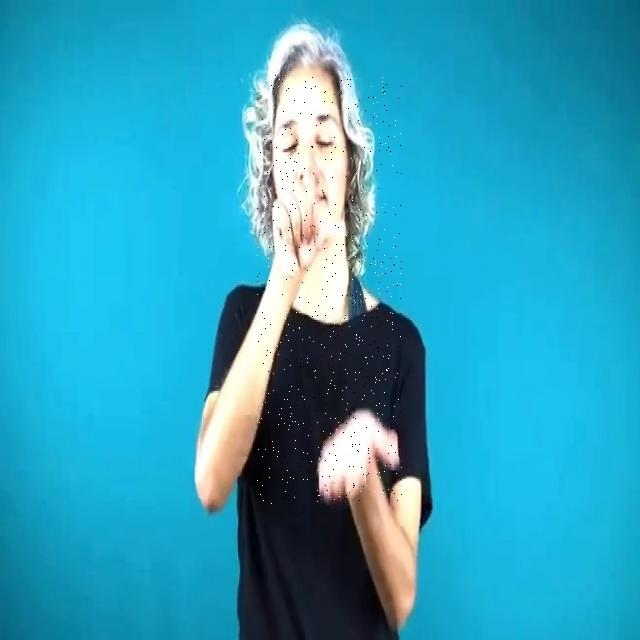chicken: (257, 74, 402, 504)
